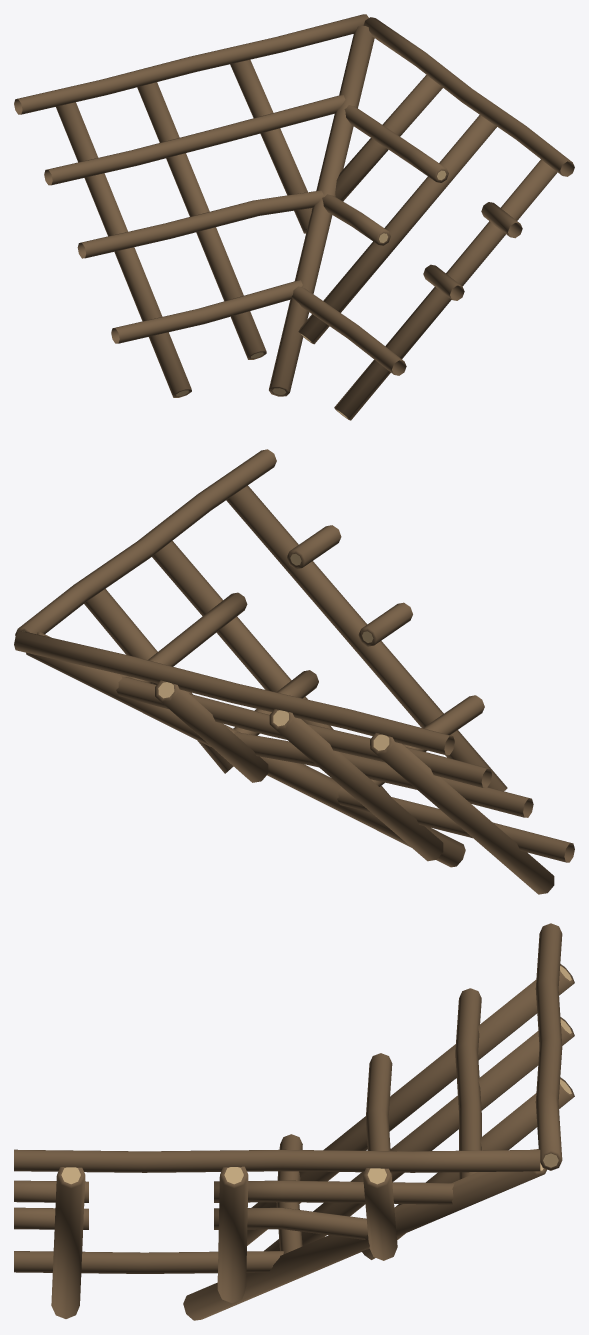
Rendered from rpgpp_ag_roof_support_01_6x3x3_corner_a_chimney_01.fbx.
The picture shows the model from 3 angles, top to bottom: view 1: azimuth 30°, elevation 25°; view 2: azimuth 150°, elevation 25°; view 3: azimuth 270°, elevation 25°; orthographic projection. The views are drawn at different scales.
Parts seen in each view (by area): view 1: rpgpp_ag_roof_support_01_6x3x3_corner_a_chimney_01; view 2: rpgpp_ag_roof_support_01_6x3x3_corner_a_chimney_01; view 3: rpgpp_ag_roof_support_01_6x3x3_corner_a_chimney_01.
Part boxes in pixels (x1,y1,x2,y2): rpgpp_ag_roof_support_01_6x3x3_corner_a_chimney_01: [14, 14, 574, 420]; rpgpp_ag_roof_support_01_6x3x3_corner_a_chimney_01: [14, 449, 574, 894]; rpgpp_ag_roof_support_01_6x3x3_corner_a_chimney_01: [14, 923, 574, 1320].
Size of the model in its own units: 6.31 by 3.85 by 6.27.
